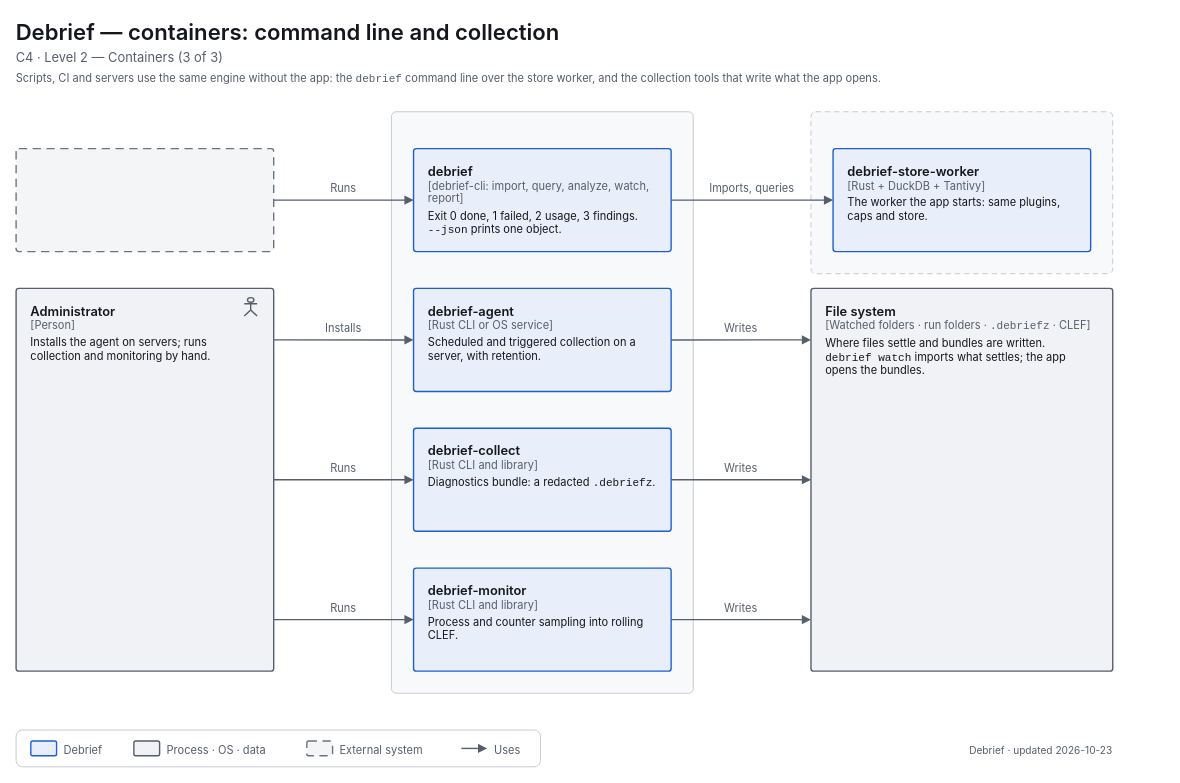
This 1180x783 diagram has some shape labels left out. The shapes that lost their labels are listed below. From the top down, each one's box as (x1, y1, x2, y2) in pixels, then its label:
(15, 147, 274, 252): Scripts and CI [Shell, pipelines] Run debrief and read its exit code or JSON.
(810, 111, 1113, 274): Child process [supervised]
(391, 111, 693, 693): Command-line tools [Rust · one process each]
